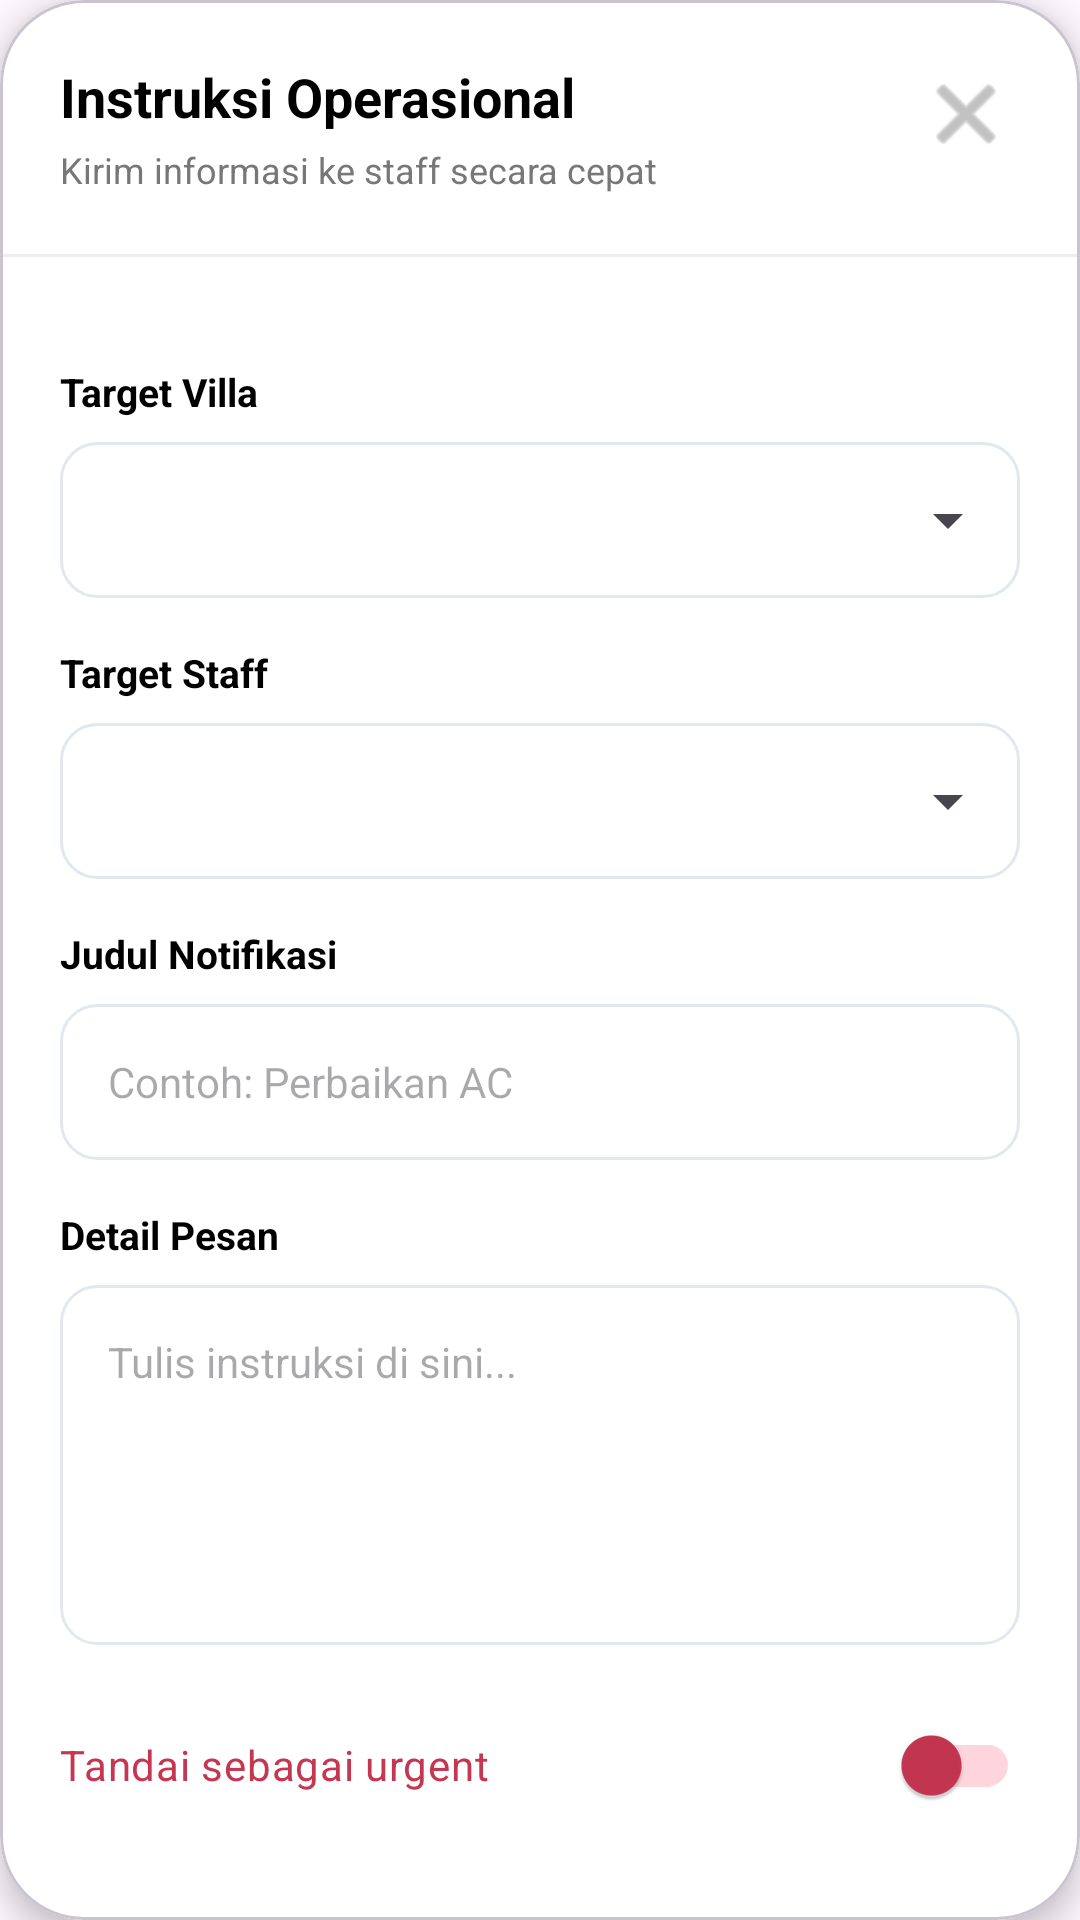

Point at icon controls on the screen. Image size 1080*1920, points as [x,y].
close clear cancel: [966,114]
